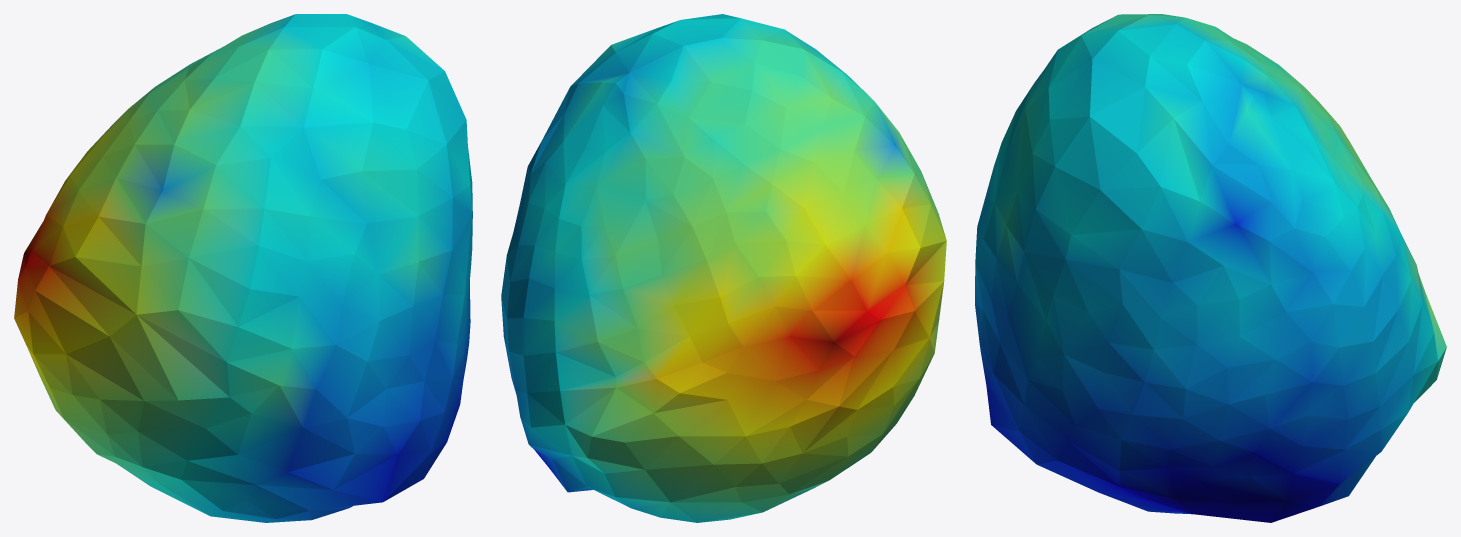
File: heartwithColor50.obj
The picture shows the model from 3 angles, left to right: view 1: azimuth 30°, elevation 25°; view 2: azimuth 150°, elevation 25°; view 3: azimuth 270°, elevation 25°; orthographic projection. The views are drawn at different scales.
Size of the model in its own units: 71.7 by 81.16 by 72.94.
